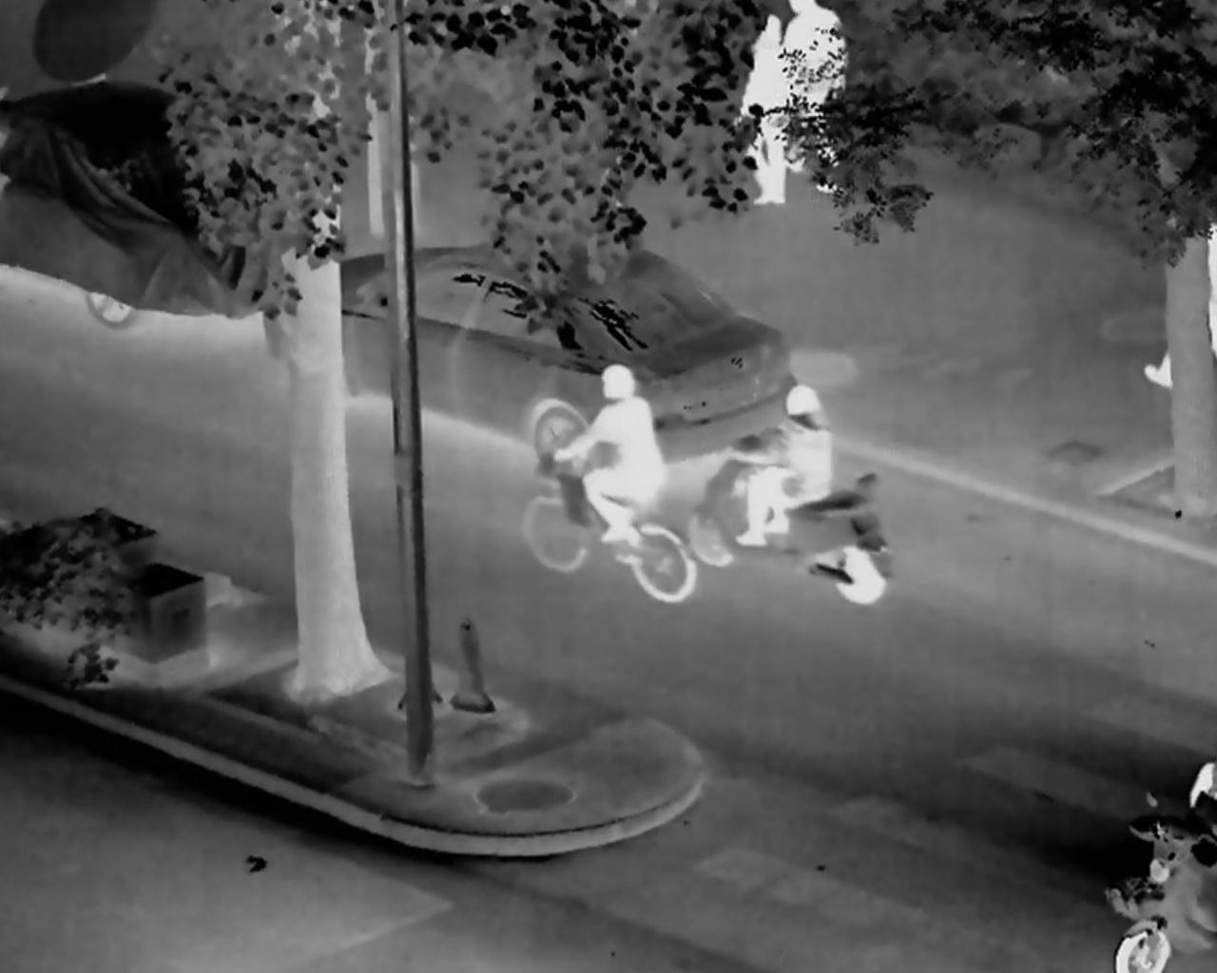person: (552, 362, 666, 555), (738, 385, 829, 544), (731, 15, 789, 208)
